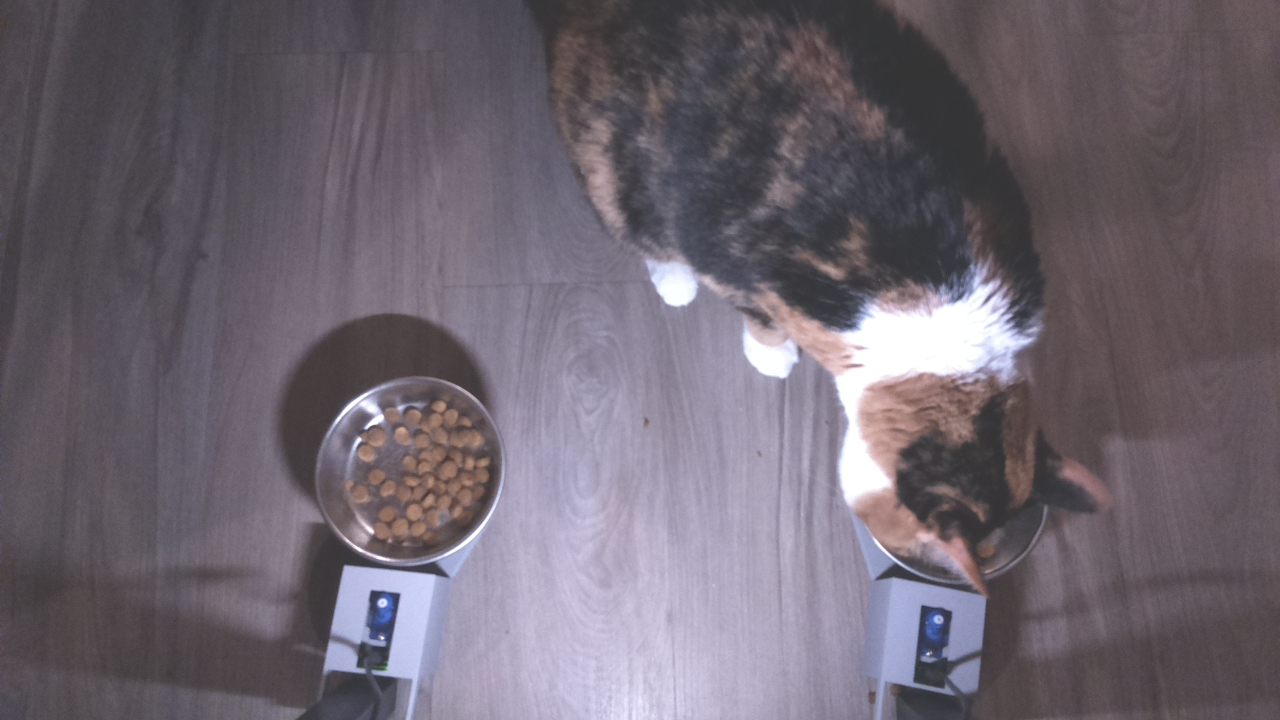bella_eating: (804, 314, 1133, 601)
open_bowl: (308, 371, 507, 569)
